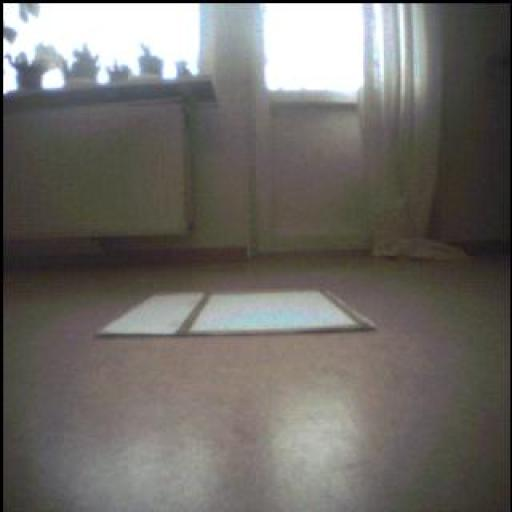Pad: (98, 296, 393, 329)
